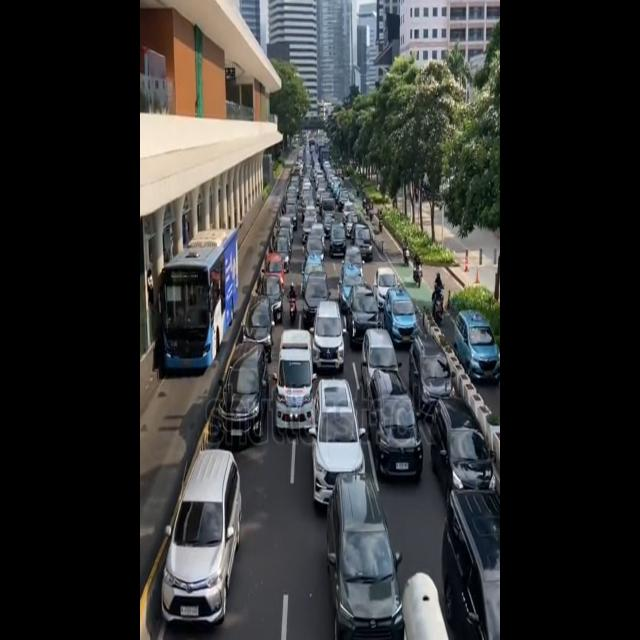Ambulance: (272, 316, 318, 434)
